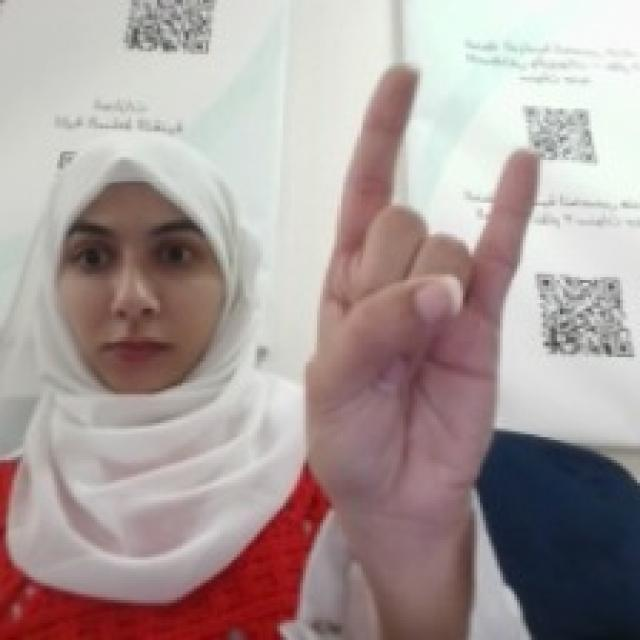No: (294, 46, 546, 526)
